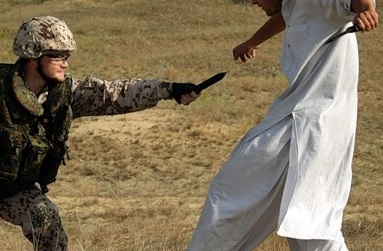knife: (177, 66, 230, 106)
